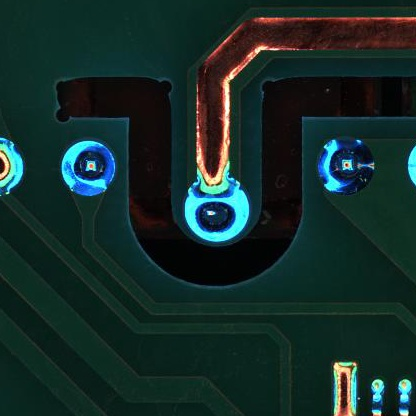spot: (185, 178, 255, 246), (316, 138, 375, 198), (62, 141, 115, 197)
